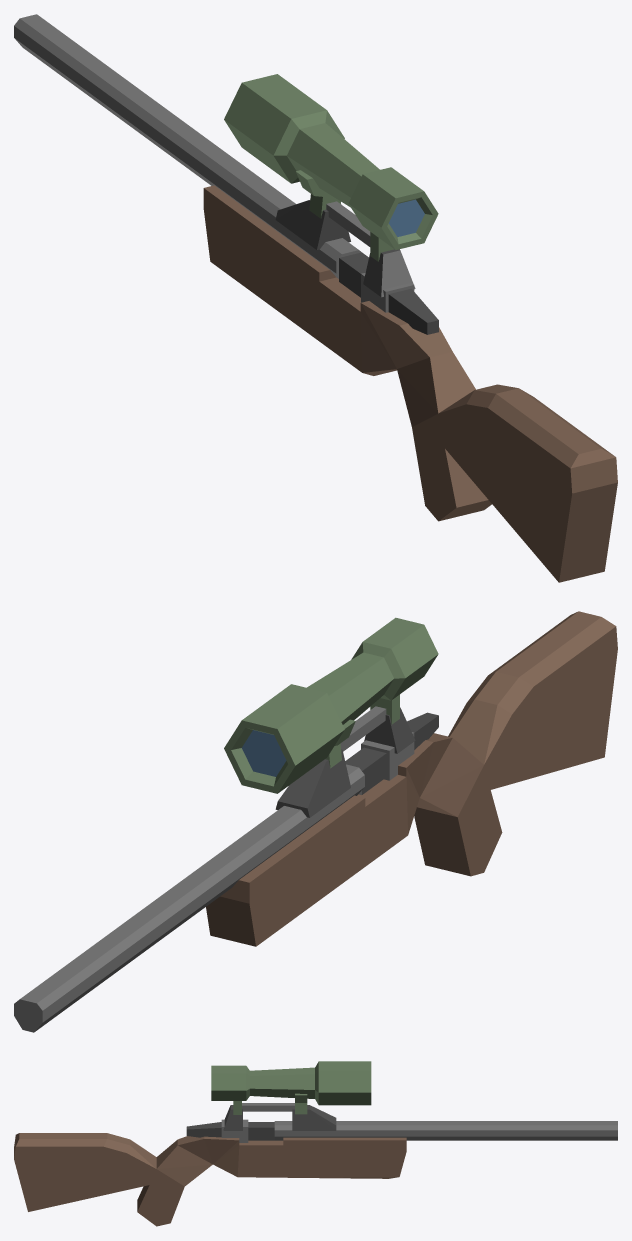
File: sniper.dae
3 renders of one model, top to bottom at view 1: azimuth 30°, elevation 25°; view 2: azimuth 150°, elevation 25°; view 3: azimuth 270°, elevation 25°, orthographic. The views are drawn at different scales.
Parts seen in each view (by area): view 1: weapon_sniper; view 2: weapon_sniper; view 3: weapon_sniper.
Part boxes in pixels (x1,y1,x2,y2): weapon_sniper: (14, 14, 617, 582); weapon_sniper: (14, 611, 617, 1032); weapon_sniper: (14, 1061, 617, 1226).
Bounding box in the file's own units: 0.25 × 3.43 × 0.9683.
